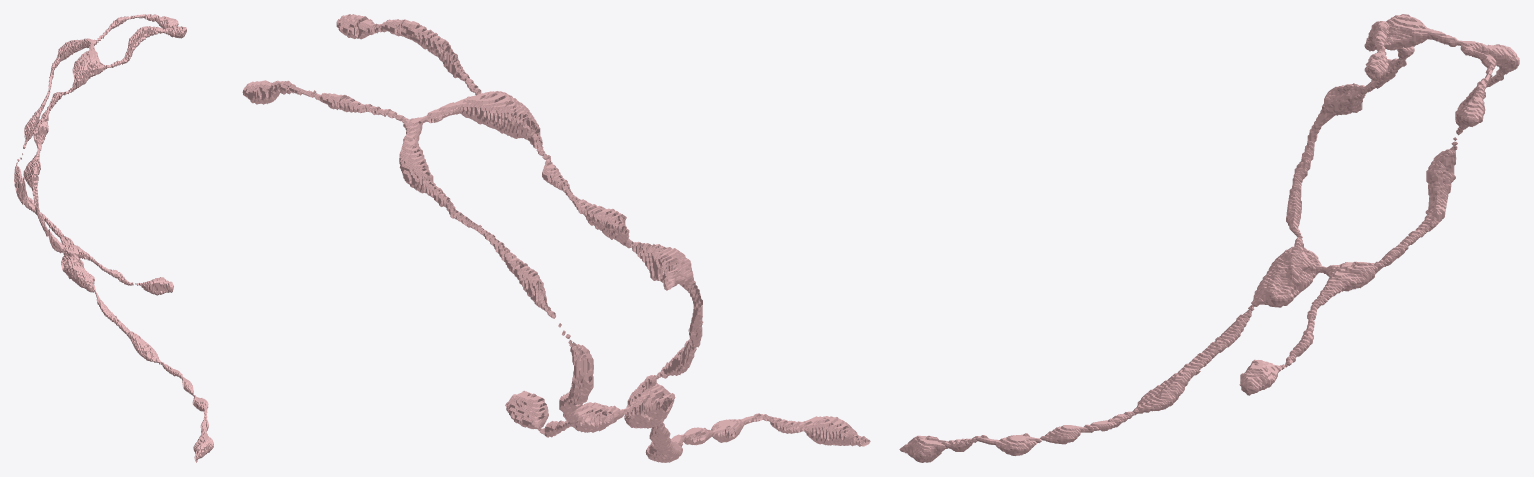
Rendered from SVV_RIBL.gltf.
3 views of the same model, side by side, from view 1: azimuth 30°, elevation 25°; view 2: azimuth 150°, elevation 25°; view 3: azimuth 270°, elevation 25° (orthographic). The views are drawn at different scales.
Visible parts, largest first — view 1: RIBL; view 2: RIBL; view 3: RIBL.
Boxes of the visible parts, x1,y1,x2,y2 form: RIBL: (14,14,213,462); RIBL: (242,14,870,462); RIBL: (899,14,1519,462).
Size of the model in its own units: 106138 by 161633 by 180602.
